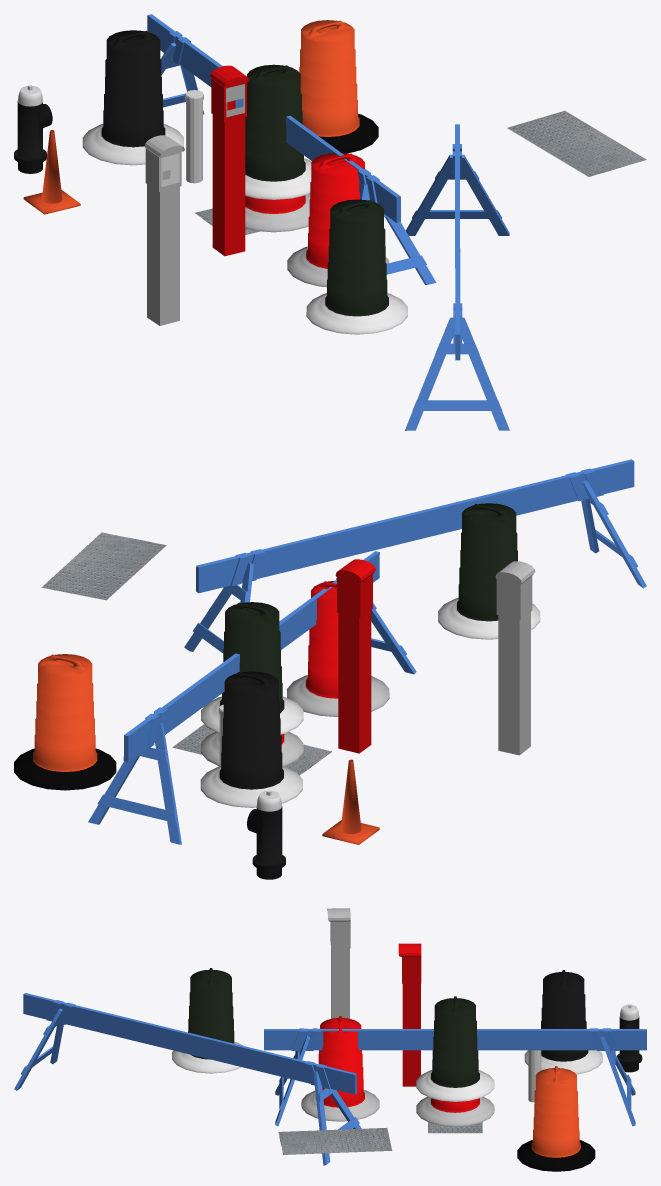
The model's file is blocks.glb.
3 renders of one model, top to bottom at view 1: azimuth 30°, elevation 25°; view 2: azimuth 150°, elevation 25°; view 3: azimuth 270°, elevation 25°, orthographic. The views are drawn at different scales.
Parts seen in each view (by area): view 1: trash-barrel_proxy, hydrant_proxy, police-barricade-wooden_proxy, Cylinder_proxy, trash-barrel, call_box_proxy, jersey-barrier_proxy, police-barricade-wooden, call-box-old_proxy, Plane_proxy, hydrant-new_proxy, call-box-old (+2 smaller); view 2: police-barricade-wooden_proxy, Cylinder_proxy, police-barricade-wooden, hydrant_proxy, trash-barrel_proxy, call_box_proxy, jersey-barrier_proxy, trash-barrel, call-box-old_proxy, Plane_proxy, hydrant-new_proxy, cone_proxy (+2 smaller); view 3: police-barricade-wooden_proxy, police-barricade-wooden, Cylinder_proxy, trash-barrel, trash-barrel_proxy, hydrant_proxy, call-box-old_proxy, Plane_proxy, call_box_proxy, jersey-barrier_proxy, call-box-old, hydrant-new_proxy (+2 smaller).
Boxes of the visible parts, x1=… form: trash-barrel_proxy: x1=306, y1=199, x2=407, y2=334; hydrant_proxy: x1=82, y1=30, x2=183, y2=165; police-barricade-wooden_proxy: x1=405, y1=124, x2=509, y2=430; Cylinder_proxy: x1=299, y1=20, x2=378, y2=153; trash-barrel: x1=245, y1=64, x2=311, y2=199; call_box_proxy: x1=210, y1=65, x2=249, y2=256; jersey-barrier_proxy: x1=144, y1=135, x2=184, y2=325; police-barricade-wooden: x1=147, y1=14, x2=436, y2=284; call-box-old_proxy: x1=287, y1=153, x2=388, y2=287; Plane_proxy: x1=507, y1=110, x2=646, y2=176; hydrant-new_proxy: x1=14, y1=85, x2=52, y2=173; call-box-old: x1=245, y1=193, x2=310, y2=232; police-barricade-wooden_proxy: x1=184, y1=459, x2=646, y2=653; Cylinder_proxy: x1=14, y1=654, x2=116, y2=790; police-barricade-wooden: x1=88, y1=551, x2=416, y2=844; hydrant_proxy: x1=200, y1=671, x2=302, y2=807; trash-barrel_proxy: x1=438, y1=503, x2=540, y2=639; call_box_proxy: x1=335, y1=559, x2=375, y2=753; jersey-barrier_proxy: x1=495, y1=561, x2=535, y2=755; trash-barrel: x1=201, y1=602, x2=303, y2=734; call-box-old_proxy: x1=287, y1=581, x2=389, y2=716; Plane_proxy: x1=41, y1=532, x2=166, y2=600; hydrant-new_proxy: x1=247, y1=790, x2=285, y2=879; cone_proxy: x1=322, y1=759, x2=379, y2=844; police-barricade-wooden_proxy: x1=14, y1=993, x2=361, y2=1165; police-barricade-wooden: x1=264, y1=1028, x2=646, y2=1126; Cylinder_proxy: x1=517, y1=1066, x2=595, y2=1171; trash-barrel: x1=416, y1=996, x2=494, y2=1101; trash-barrel_proxy: x1=172, y1=968, x2=243, y2=1073; hydrant_proxy: x1=524, y1=970, x2=602, y2=1074; call-box-old_proxy: x1=301, y1=1016, x2=379, y2=1121; Plane_proxy: x1=278, y1=1128, x2=392, y2=1154; call_box_proxy: x1=398, y1=943, x2=421, y2=1086; jersey-barrier_proxy: x1=327, y1=908, x2=350, y2=1018; call-box-old: x1=416, y1=1097, x2=494, y2=1126; hydrant-new_proxy: x1=617, y1=1004, x2=642, y2=1072.
Bounding box in the file's own units: 4.54 × 1.77 × 7.05.
Materials: 13 (1 with a texture image).
